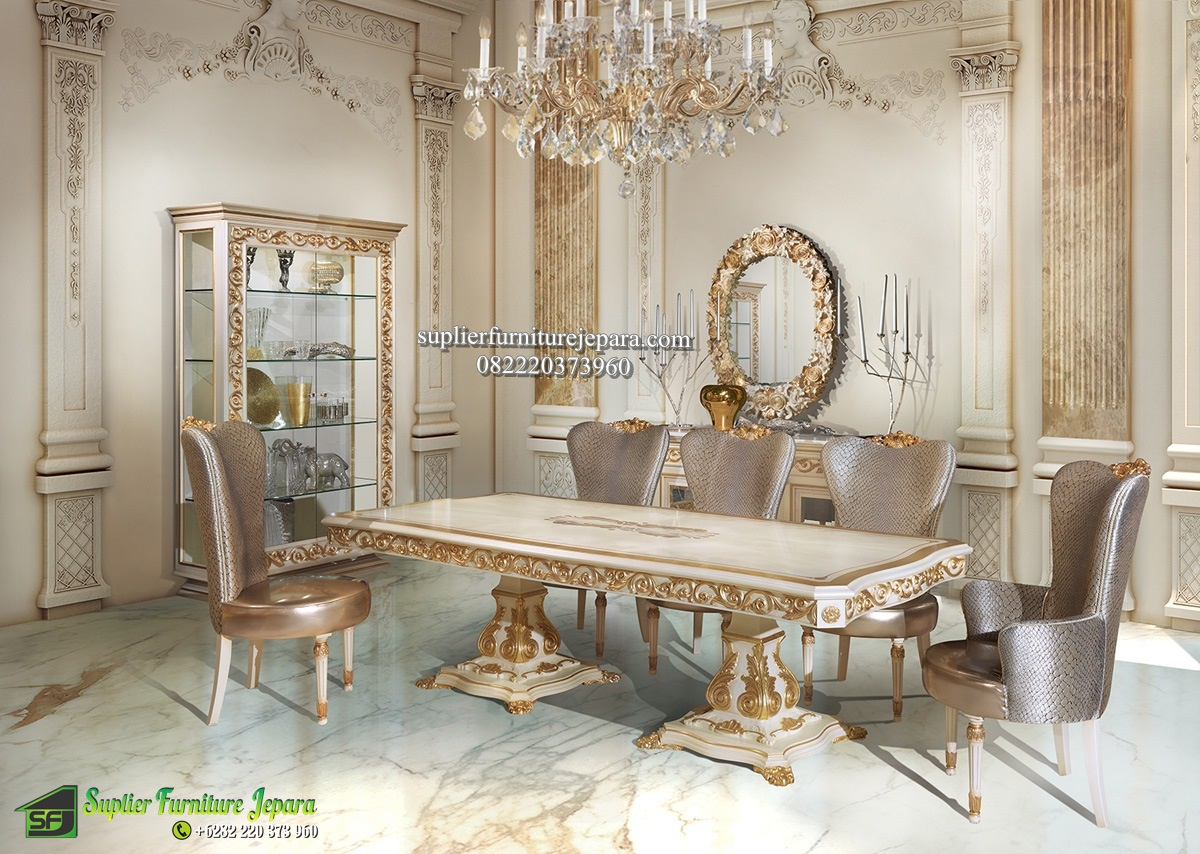Carving Chair: (133, 401, 396, 731), (928, 441, 1136, 837)
Carving Table: (337, 496, 931, 799)
